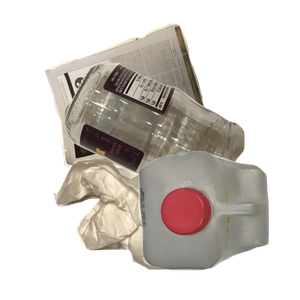glass: (62, 60, 300, 240)
paper: (42, 21, 249, 181)
plastic: (136, 149, 300, 300)
trash: (51, 155, 261, 300)
